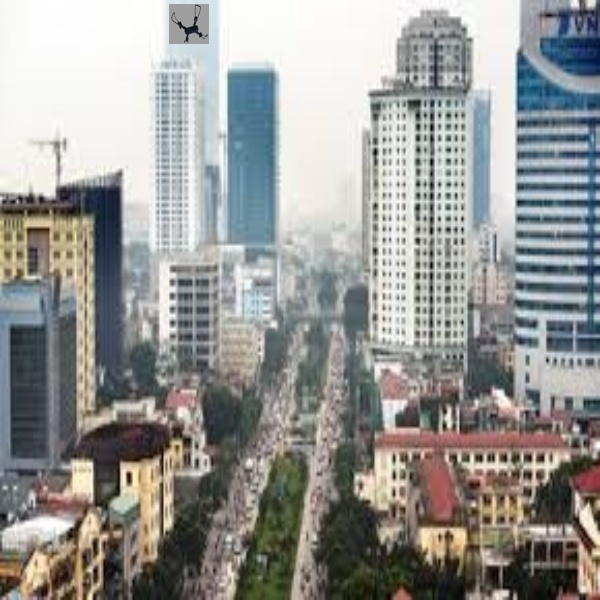drone: (170, 6, 212, 43)
